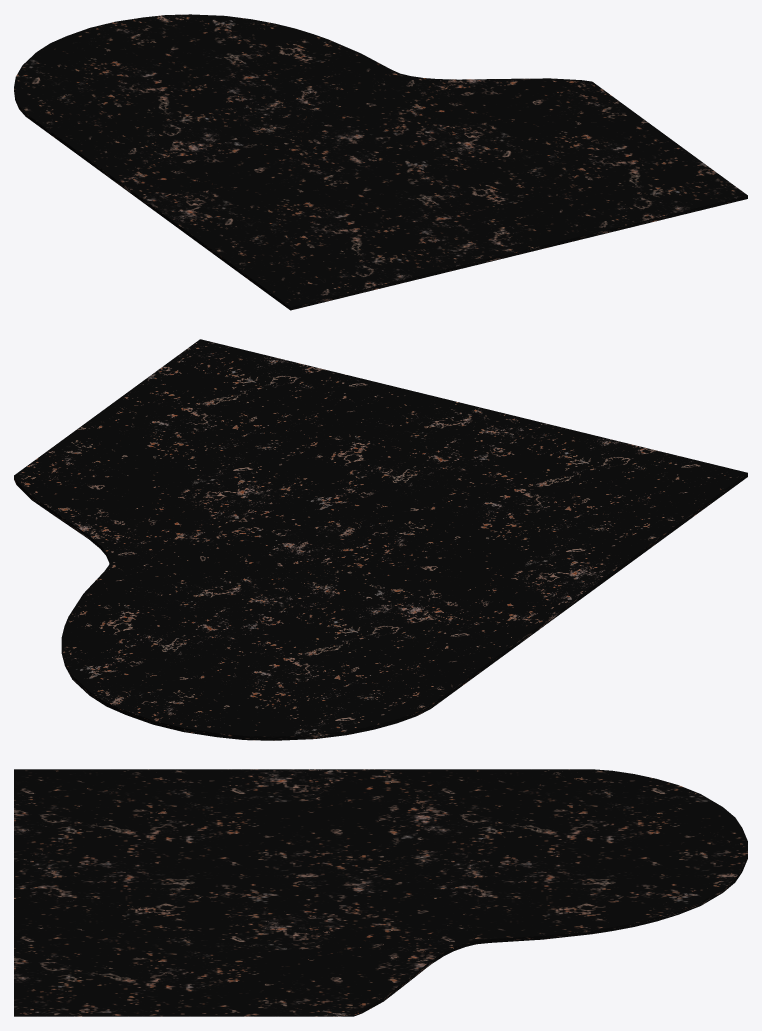
The model's file is piano_lid_open.obj.
3 views of the same model, one above another, from view 1: azimuth 30°, elevation 25°; view 2: azimuth 150°, elevation 25°; view 3: azimuth 270°, elevation 25° (orthographic). The views are drawn at different scales.
Visible parts, largest first — view 1: box.001_Cube.031; view 2: box.001_Cube.031; view 3: box.001_Cube.031.
Part boxes in pixels (left/top/right/bottom): box.001_Cube.031: left=14, top=14, right=747, bottom=310; box.001_Cube.031: left=14, top=339, right=747, bottom=740; box.001_Cube.031: left=14, top=769, right=747, bottom=1016.
Bounding box in the file's own units: 1.78 × 0.0127 × 2.26.
Materials: 1 (1 with a texture image).
